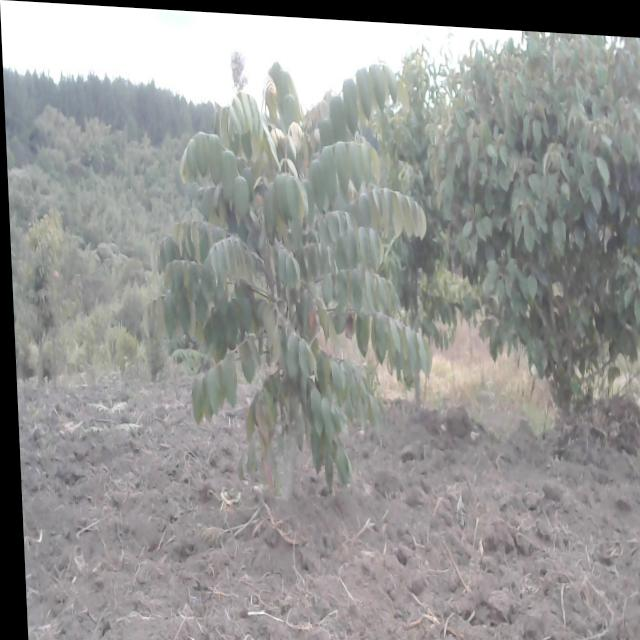Polyscias fulva: (161, 77, 442, 495)
other: (398, 42, 640, 408)
